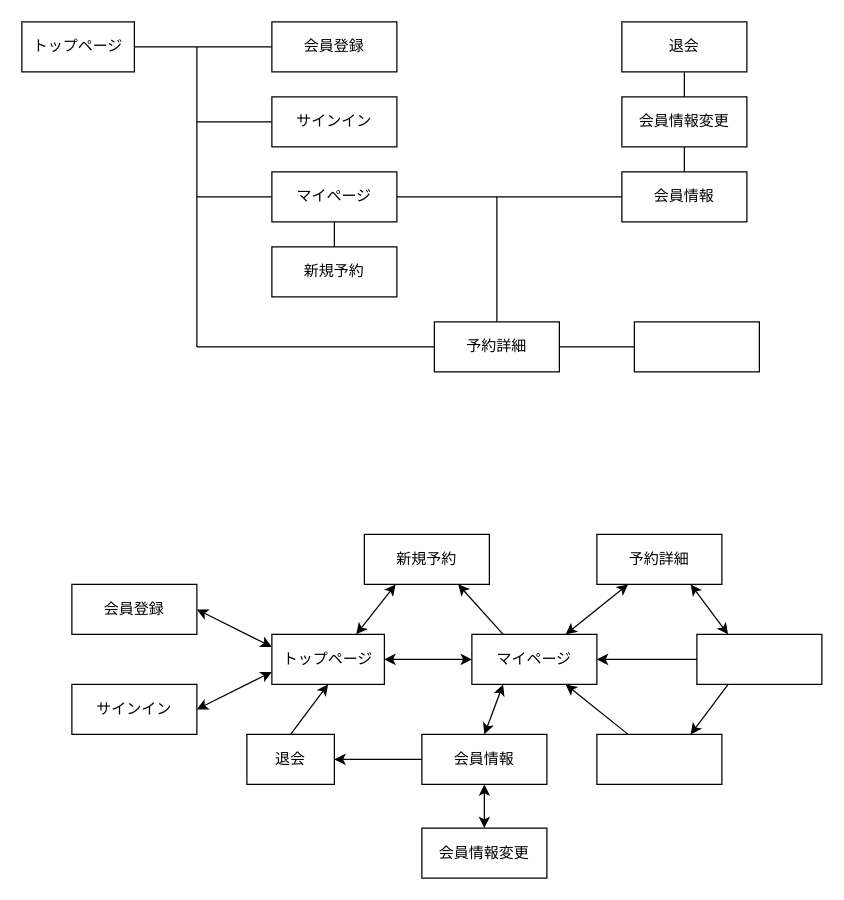
This 844x900 diagram has some shape labels left out. Here are the shapes that lost their labels. From the top down, the box of each, then its label:
(633, 321, 759, 372): 予約変更/削除
(696, 633, 822, 684): 予約変更
(596, 733, 722, 784): 予約削除
